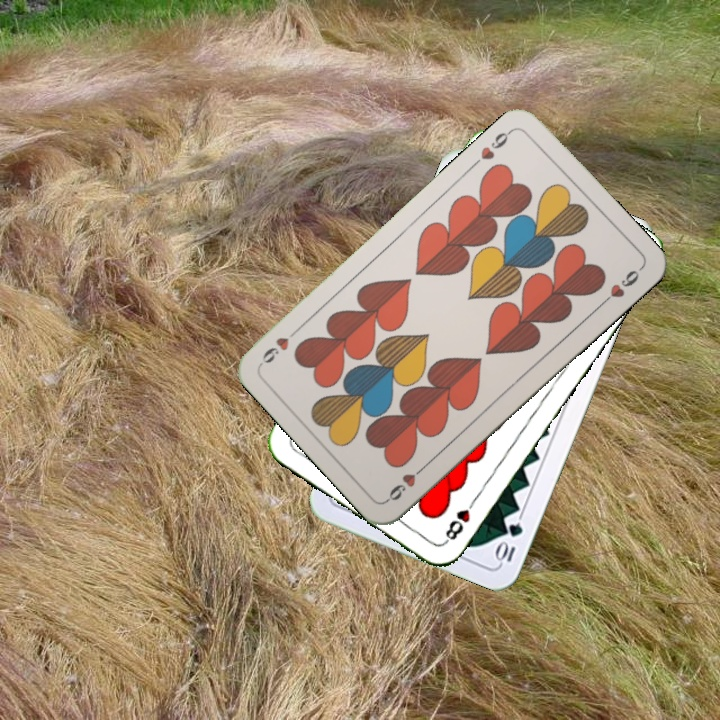G10: (491, 518, 526, 566)
H8: (440, 493, 479, 546)
H9: (382, 460, 430, 504), (476, 124, 516, 163)
